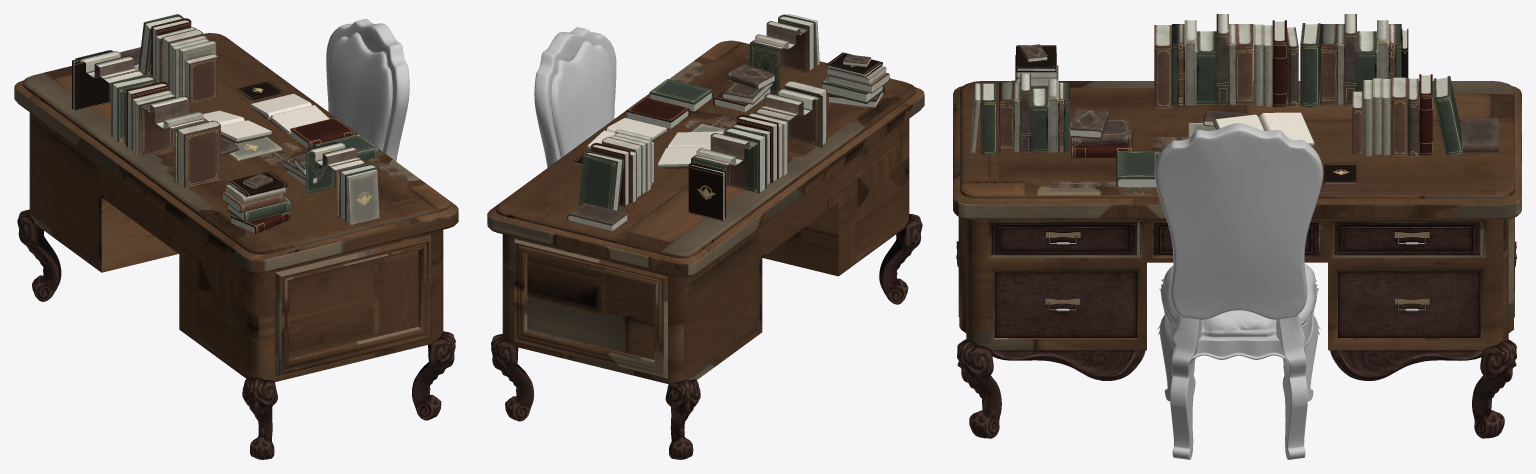
File: Secretary 1.fbx
3 renders of one model, left to right at view 1: azimuth 30°, elevation 25°; view 2: azimuth 150°, elevation 25°; view 3: azimuth 270°, elevation 25°, orthographic. The views are drawn at different scales.
Parts seen in each view (by area): view 1: Table, prop_books_03_inst_001, victorian_chair_cloth, prop_books_01_inst_001, prop_books_02_inst_001, victorian_chair_wood, prop_books_05_inst_001, prop_books_04_inst_001, TableLeg, TableLeg.002, TableLeg.001, prop_book_04_inst_001 (+3 smaller); view 2: Table, prop_books_03_inst_001, prop_books_01_inst_001, victorian_chair_cloth, prop_books_02_inst_001, victorian_chair_wood, prop_books_05_inst_001, TableLeg.003, TableLeg.001, TableLeg.002, prop_books_04_inst_001, prop_book_02_inst_001 (+2 smaller); view 3: Table, victorian_chair_wood, prop_books_03_inst_001, Drawer 4, Drawer 5, prop_books_02_inst_001, prop_books_01_inst_001, UnderTableTrim, Drawer 3, Drawer 1, victorian_chair_cloth, TableLeg (+6 smaller).
Boxes of the visible parts, <box> form: Table: <box>14,33,458,382</box>; prop_books_03_inst_001: <box>72,50,220,187</box>; victorian_chair_cloth: <box>327,32,392,151</box>; prop_books_01_inst_001: <box>119,14,217,103</box>; prop_books_02_inst_001: <box>283,142,379,224</box>; victorian_chair_wood: <box>326,19,409,161</box>; prop_books_05_inst_001: <box>223,171,291,233</box>; prop_books_04_inst_001: <box>203,110,282,160</box>; TableLeg: <box>412,331,455,420</box>; TableLeg.002: <box>17,209,61,301</box>; TableLeg.001: <box>242,377,277,459</box>; prop_book_04_inst_001: <box>248,93,329,135</box>; Table: <box>487,40,924,384</box>; prop_books_03_inst_001: <box>688,80,826,220</box>; prop_books_01_inst_001: <box>567,129,654,231</box>; victorian_chair_cloth: <box>551,40,614,157</box>; prop_books_02_inst_001: <box>713,14,819,112</box>; victorian_chair_wood: <box>534,27,616,167</box>; prop_books_05_inst_001: <box>821,52,889,107</box>; TableLeg.003: <box>491,334,533,421</box>; TableLeg.001: <box>879,214,922,304</box>; TableLeg.002: <box>665,379,700,459</box>; prop_books_04_inst_001: <box>657,124,724,168</box>; prop_book_02_inst_001: <box>626,97,690,128</box>; Table: <box>953,81,1521,350</box>; victorian_chair_wood: <box>1154,123,1323,459</box>; prop_books_03_inst_001: <box>1154,14,1408,108</box>; Drawer 4: <box>994,271,1136,337</box>; Drawer 5: <box>1338,271,1480,337</box>; prop_books_02_inst_001: <box>970,73,1132,157</box>; prop_books_01_inst_001: <box>1352,74,1498,156</box>; UnderTableTrim: <box>991,350,1483,380</box>; Drawer 3: <box>1335,222,1480,255</box>; Drawer 1: <box>992,222,1137,255</box>; victorian_chair_cloth: <box>1161,264,1316,337</box>; TableLeg: <box>957,339,1001,438</box>.
Size of the model in its own units: 111 by 123 by 184.
